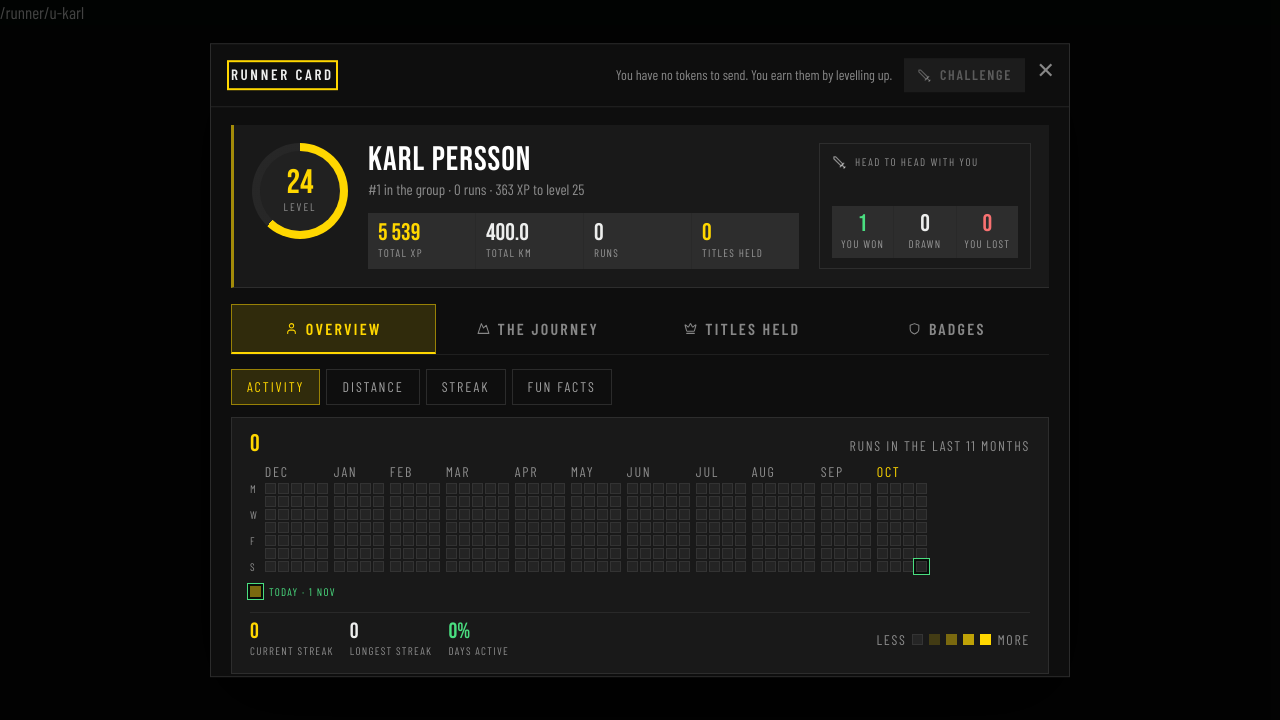
Test: the Badges tab of the popup › a runner without badges gets "No badges yet." and no count
Expected: the heading "Karl Persson" is shown, top-left (368, 144), bottom-right (531, 178)
Click the tab "Badges": x=947, y=329 top-left (844, 304), bottom-right (1049, 354)
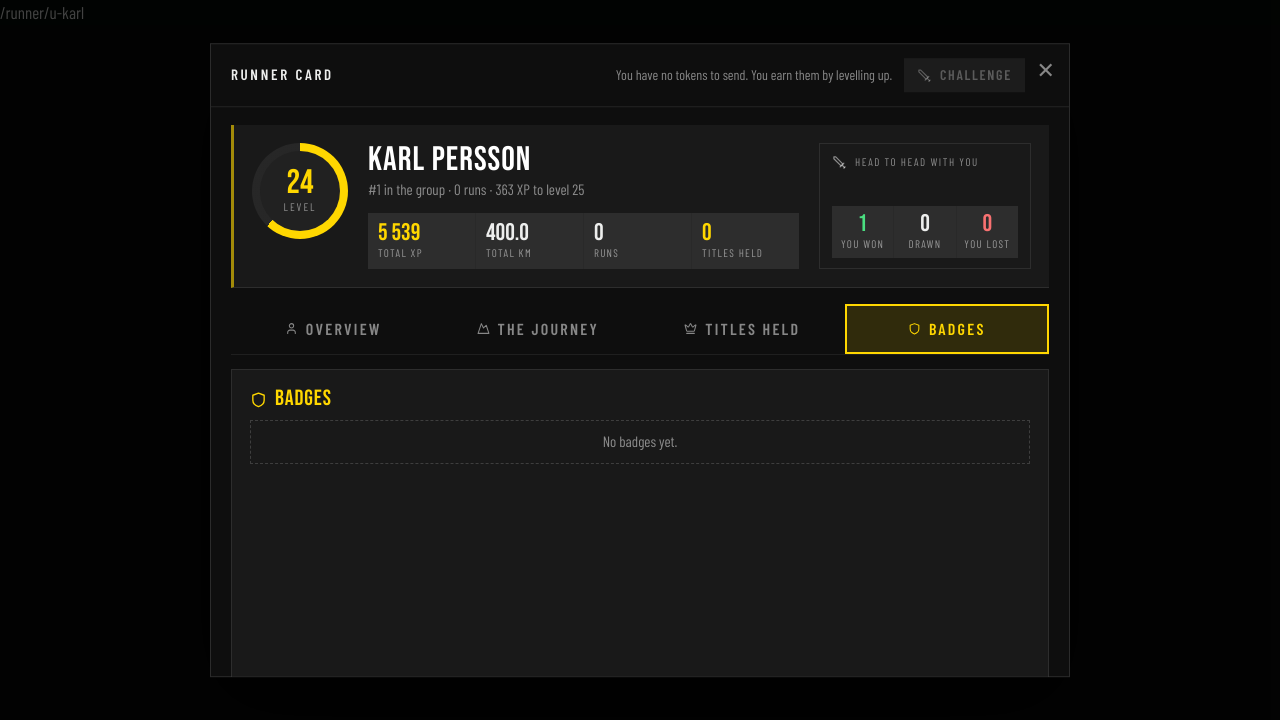
Result: the text "No badges yet." is shown at top-left (250, 420), bottom-right (1030, 464)
